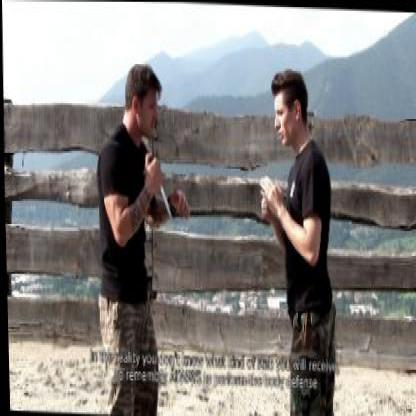knife: (143, 148, 172, 221)
